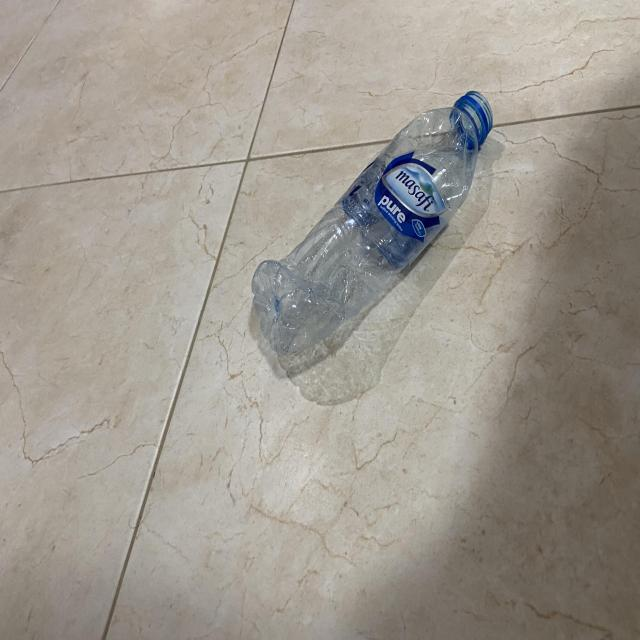plastic: (244, 80, 497, 358)
